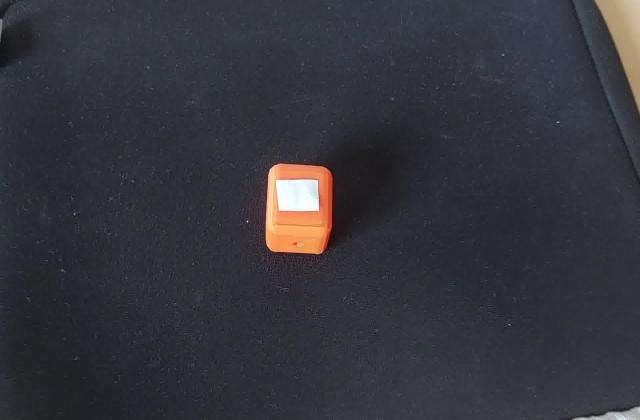sticker: (261, 163, 338, 259)
white: (274, 176, 324, 217)
